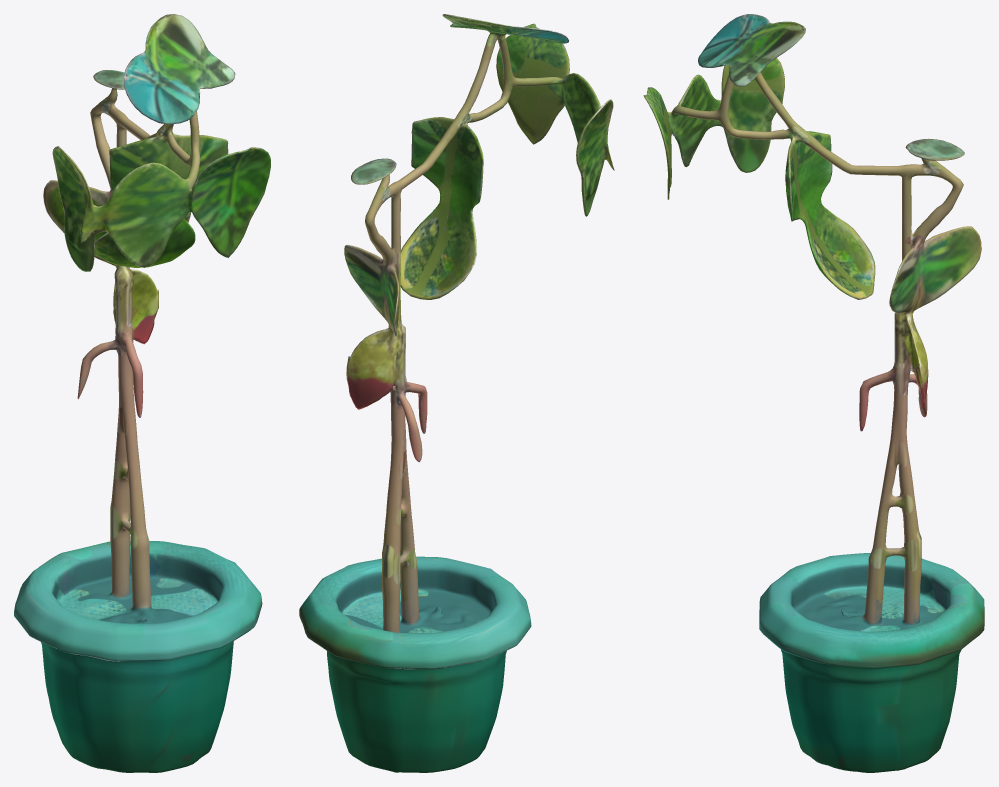
The model's file is 019dace2-70af-7267-ba51-a4bdefbd6067.glb.
3 renders of one model, left to right at view 1: azimuth 30°, elevation 25°; view 2: azimuth 150°, elevation 25°; view 3: azimuth 270°, elevation 25°, orthographic. The views are drawn at different scales.
Parts seen in each view (by area): view 1: model; view 2: model; view 3: model.
Boxes of the visible parts, left/top/right/bottom form: model: left=14, top=14, right=270, bottom=772; model: left=299, top=14, right=614, bottom=772; model: left=643, top=14, right=984, bottom=772.
Size of the model in its own units: 0.6654 by 1.9 by 0.8256.
1 material, 1 textured.
